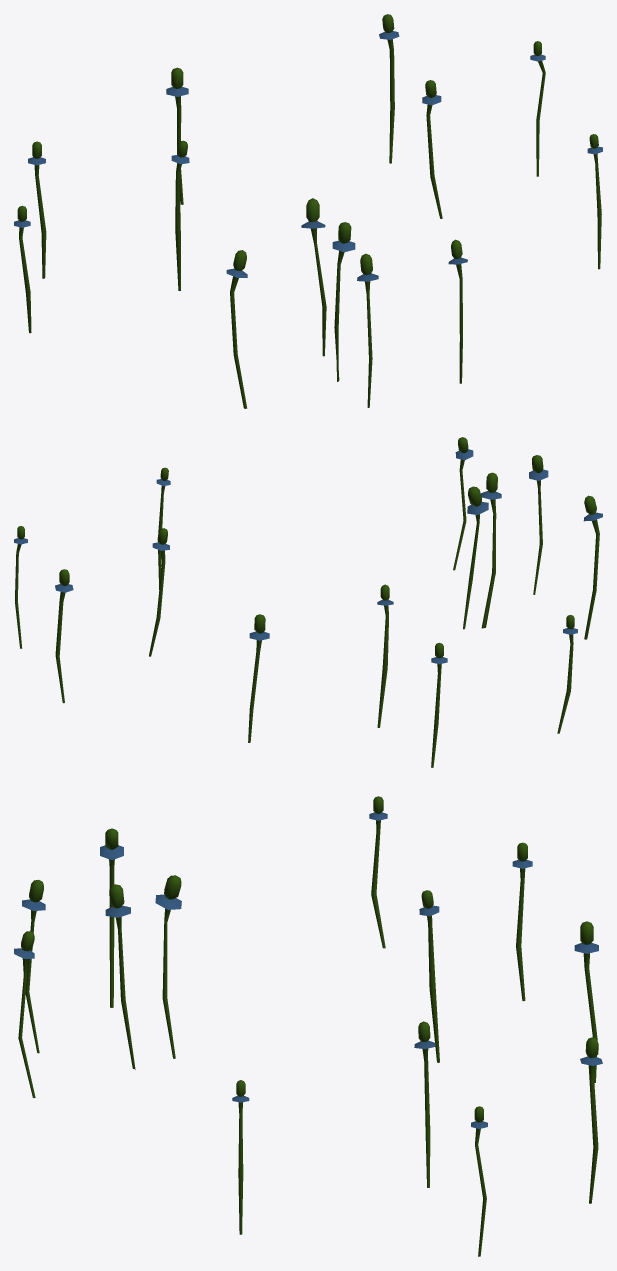
File: parsiTendrilSpikes.FBX
3 views of the same model, one above another, from view 1: azimuth 30°, elevation 25°; view 2: azimuth 150°, elevation 25°; view 3: azimuth 270°, elevation 25° (orthographic). The views are drawn at different scales.
Parts seen in each view (by area): view 1: parsiTendrilSpikes_LOD0; view 2: parsiTendrilSpikes_LOD0; view 3: parsiTendrilSpikes_LOD0.
Part boxes in pixels (x1,y1,x2,y2): parsiTendrilSpikes_LOD0: (14, 14, 602, 408); parsiTendrilSpikes_LOD0: (14, 437, 602, 767); parsiTendrilSpikes_LOD0: (14, 796, 602, 1256).
Size of what is drawn, in the model's own units: 3.65 by 1.06 by 2.91.
